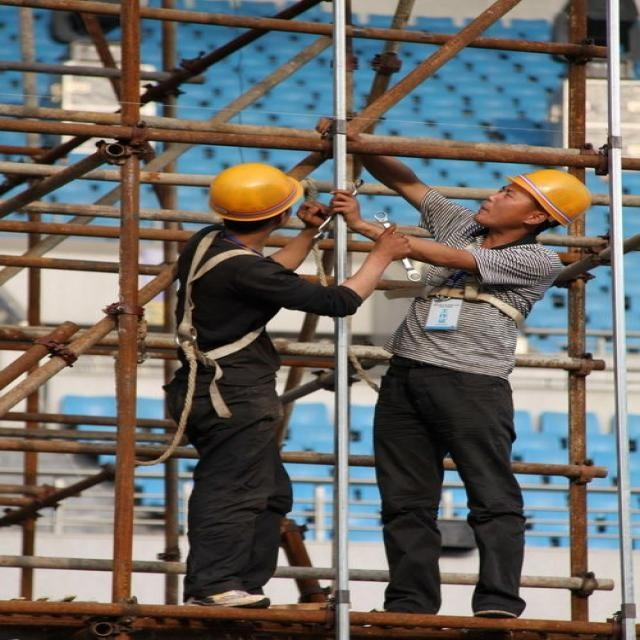Arnes_seguridad: (169, 224, 288, 372), (401, 213, 535, 325)
